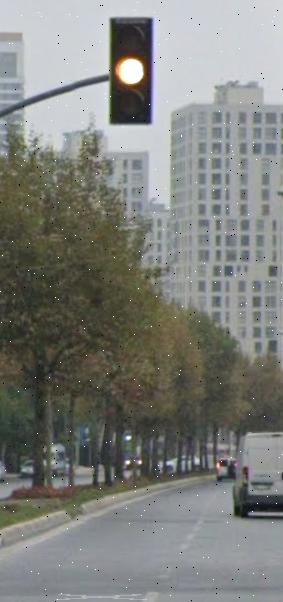yellowlight: (110, 17, 152, 122)
